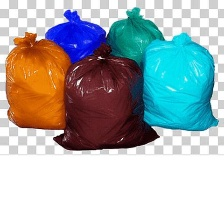plastic_bag: (49, 39, 160, 153), (137, 31, 222, 137), (2, 30, 86, 133), (37, 7, 114, 67), (101, 4, 166, 66)
